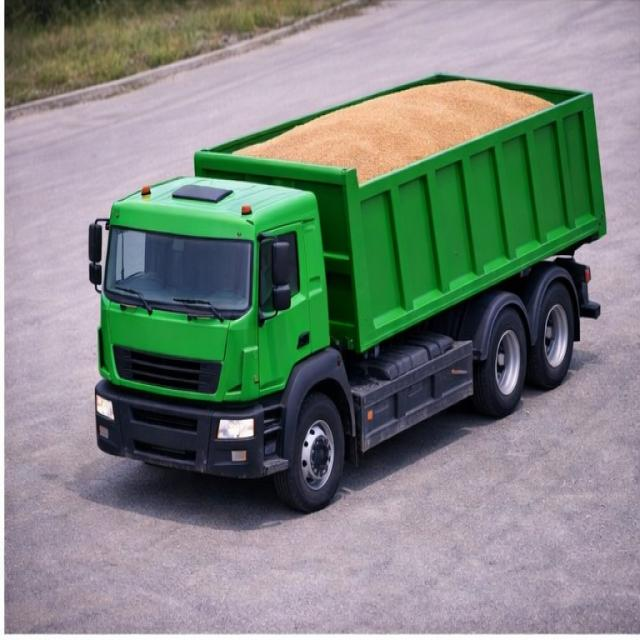trailer: (195, 73, 592, 184)
truck: (81, 40, 617, 501)
